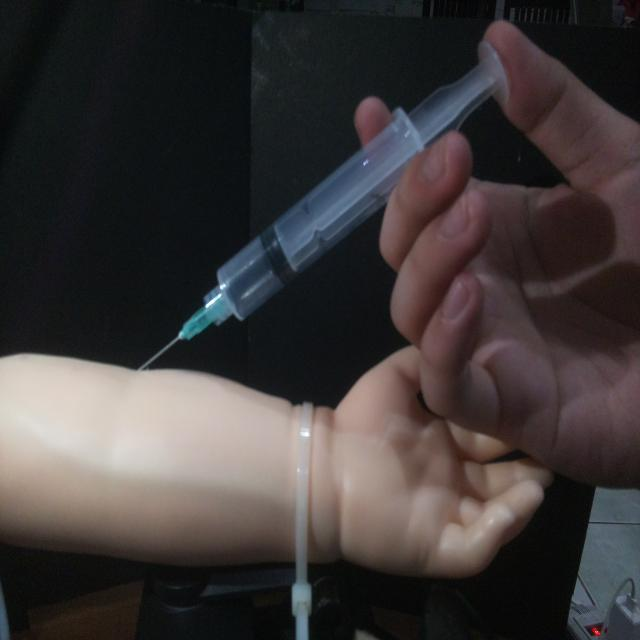28deg: (133, 36, 512, 374)
